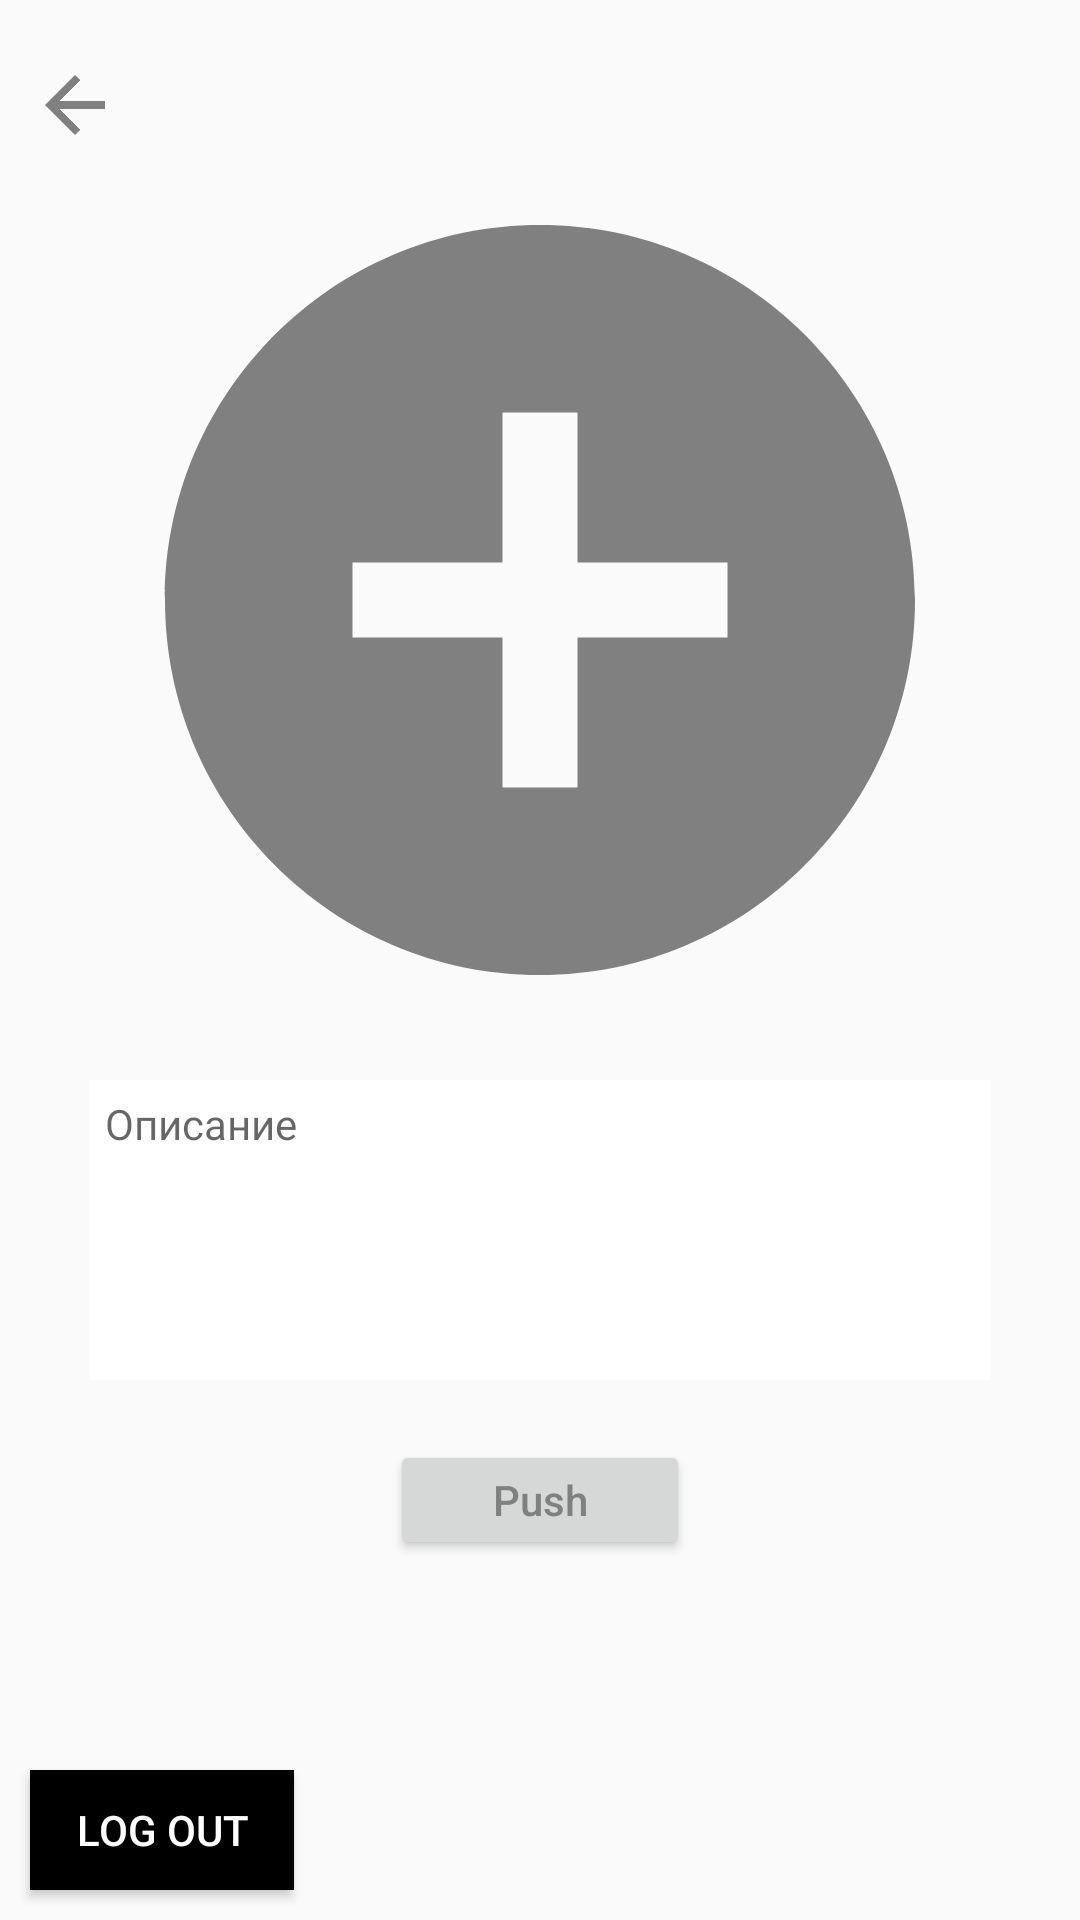

Icons on this 1080w x 1920h Android screen, each with its box as rect(x1, y1, x2, y2):
arrow back: rect(45, 75, 105, 135)
